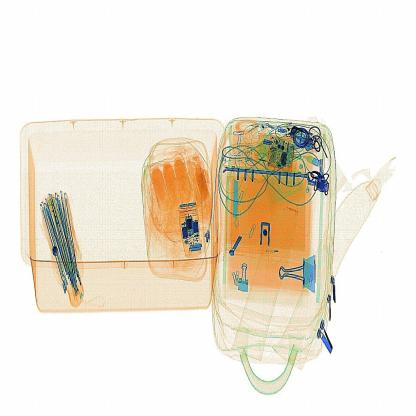pliers: (230, 177, 243, 239)
